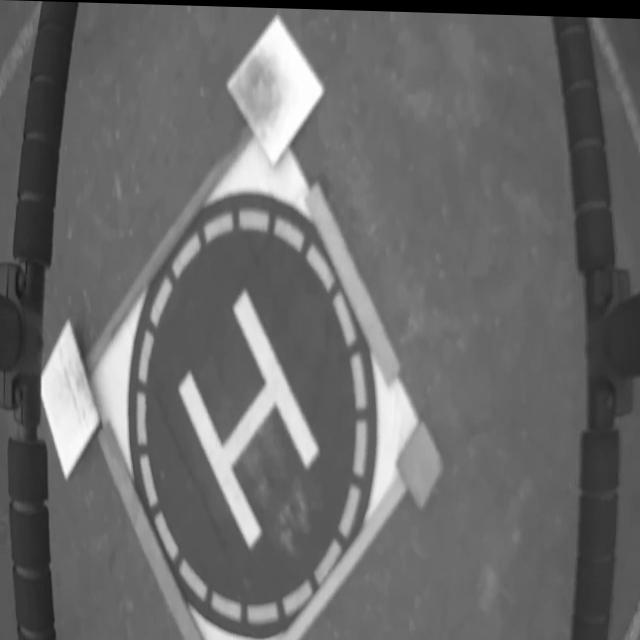Helipad: (179, 288, 321, 546)
